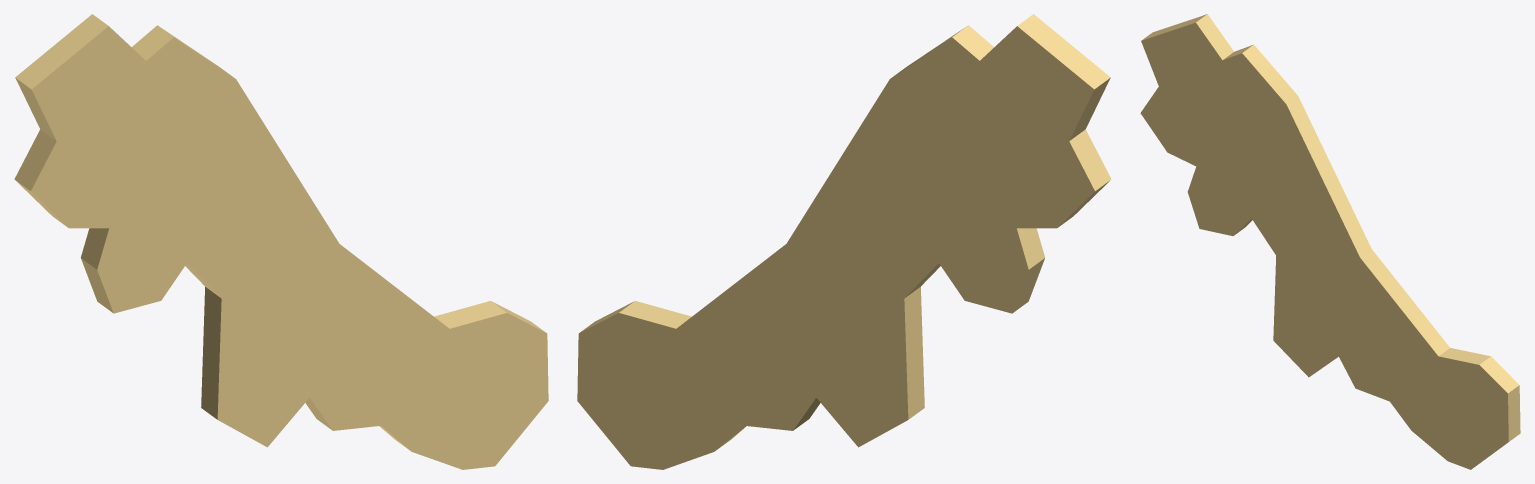
The model's file is inde.fbx.
The picture shows the model from 3 angles, left to right: view 1: azimuth 30°, elevation 25°; view 2: azimuth 150°, elevation 25°; view 3: azimuth 330°, elevation 25°; orthographic projection. The views are drawn at different scales.
Parts seen in each view (by area): view 1: inde; view 2: inde; view 3: inde.
Part boxes in pixels (bbox=[...]): inde: bbox=[14, 14, 548, 469]; inde: bbox=[577, 14, 1111, 469]; inde: bbox=[1140, 14, 1520, 469].
Bounding box in the file's own units: 145 × 143 × 8.
